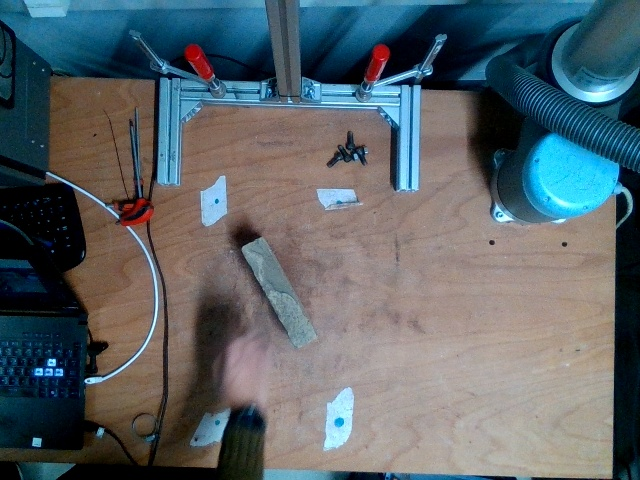brick-side: (242, 239, 315, 345)
